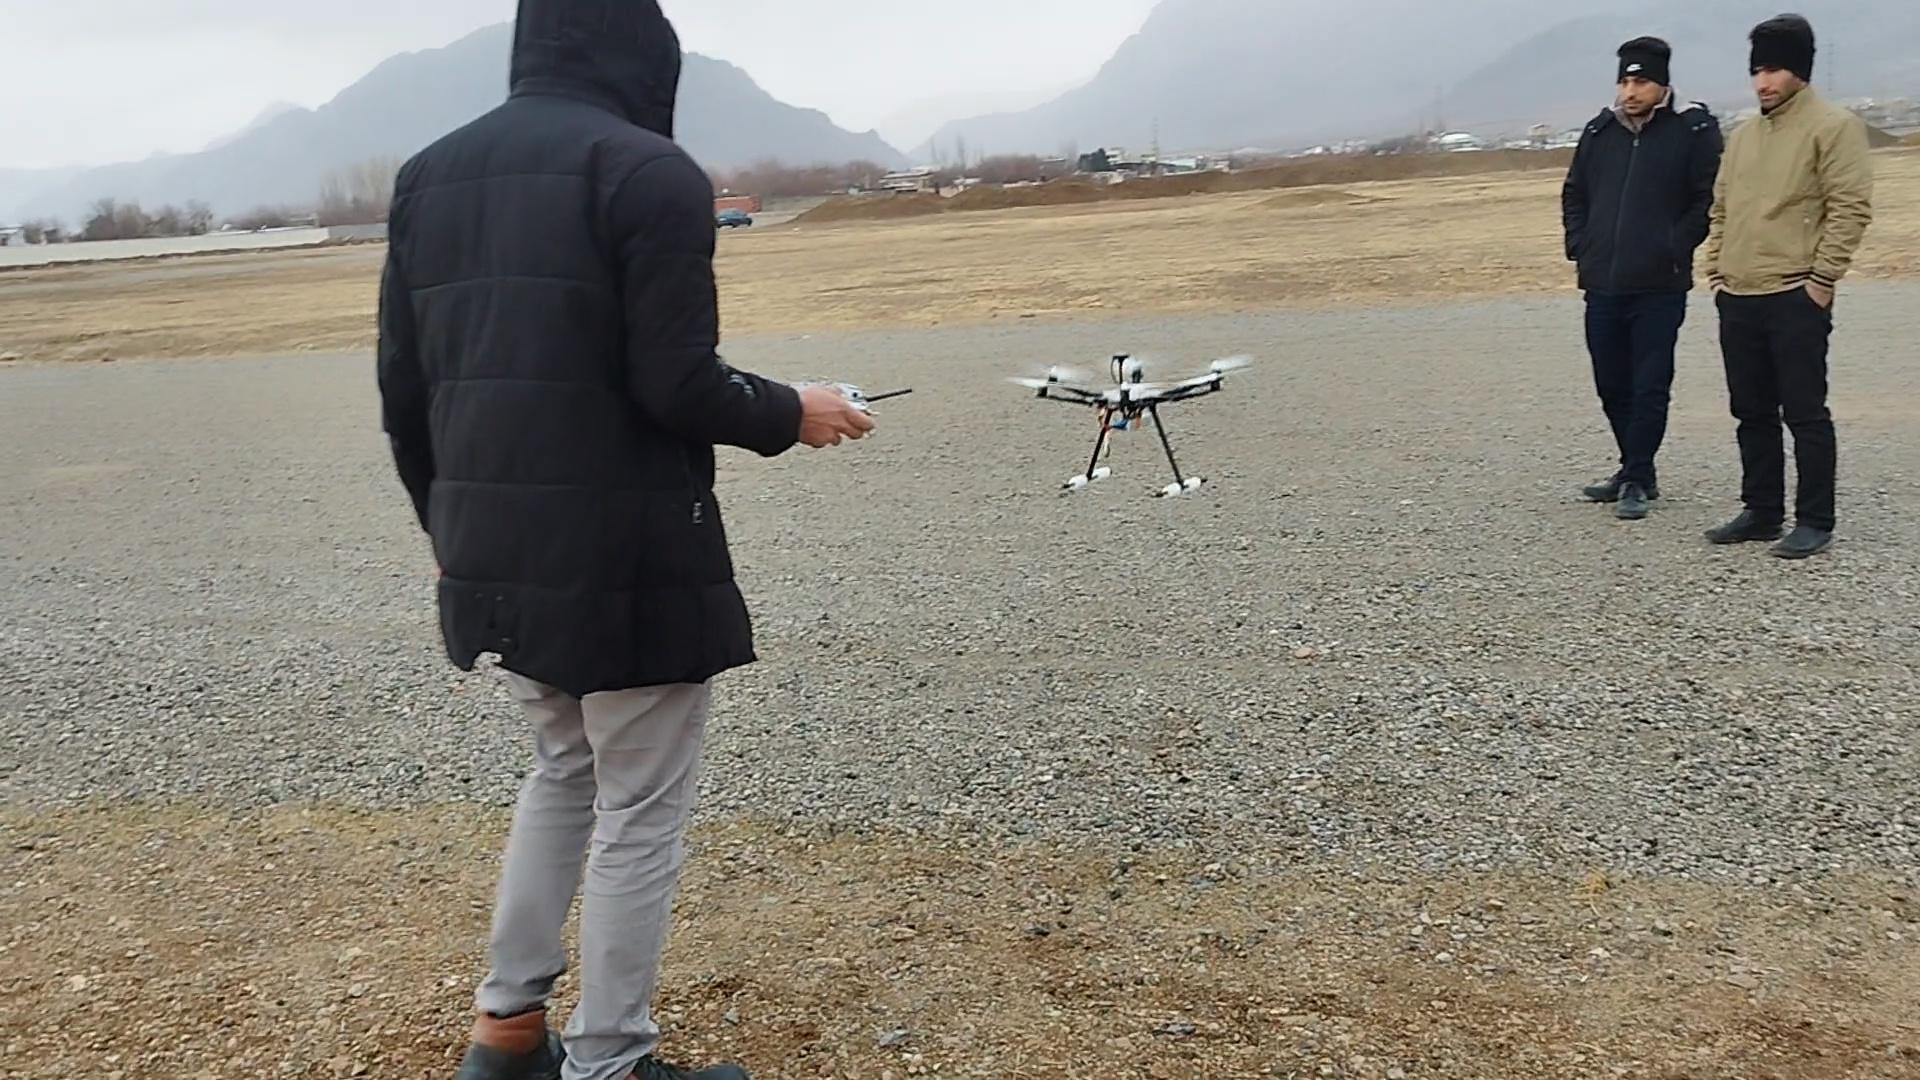drone: (1001, 345, 1259, 502)
